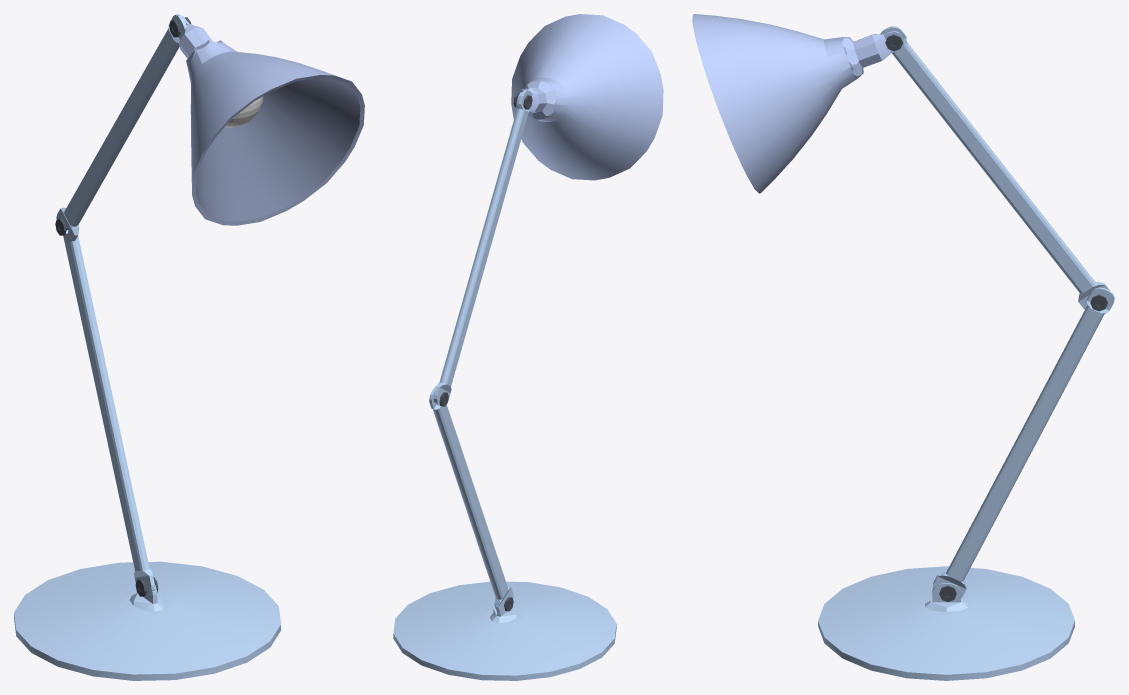
The model's file is lamba.fbx.
The picture shows the model from 3 angles, left to right: view 1: azimuth 30°, elevation 25°; view 2: azimuth 150°, elevation 25°; view 3: azimuth 270°, elevation 25°; orthographic projection. The views are drawn at different scales.
Parts seen in each view (by area): view 1: lamb; view 2: lamb; view 3: lamb.
Boxes of the visible parts, x1,y1,x2,y2 form: lamb: [14, 14, 364, 680]; lamb: [393, 14, 663, 680]; lamb: [692, 14, 1114, 680].
Size of the model in its own units: 366 by 602 by 961.
